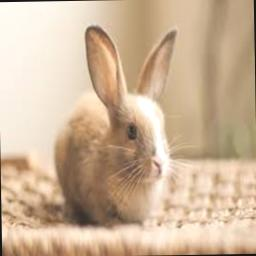rabbit: (56, 26, 175, 225)
